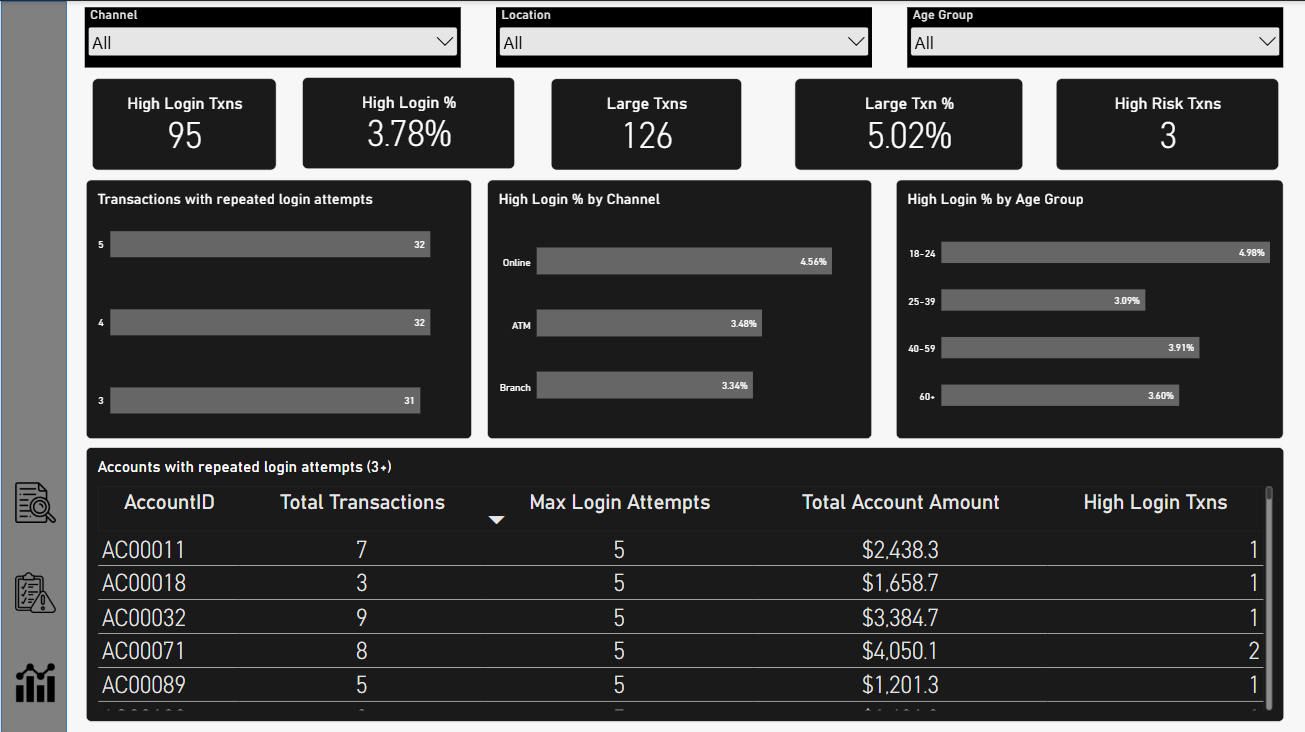

What the dashboard file says about the page in this screenshot:
{"tool":"powerbi","page":{"name":"Risk","canvas":[1920,1080],"ordinal":1},"visuals":[{"type":"shape","title":"Page Selector","box":[0,0,96.7,1080.6],"z":0},{"type":"slicer","fields":{"Values":["Dim_Channel.Channel"]},"box":[123.7,9.2,554,88.6],"z":0,"group":"g1"},{"type":"cardVisual","fields":{"Data":["Measure.High Login Txns"]},"box":[134.1,114.1,271.9,136],"z":0,"group":"g3"},{"type":"image","box":[5.5,841.1,90,60],"z":0,"group":"g2"},{"type":"group","id":"g1","title":"Slicers","box":[123.7,9.2,1765.3,88.6],"z":1000},{"type":"slicer","fields":{"Values":["Dim_Location.Location"]},"box":[729.4,9.2,554,88.6],"z":1000,"group":"g1"},{"type":"cardVisual","fields":{"Data":["Measure.High Login %"]},"box":[444.1,111.4,313.5,136],"z":1000,"group":"g3"},{"type":"image","box":[5.5,973.6,90,60],"z":1000,"group":"g2"},{"type":"slicer","fields":{"Values":["Transactions.Age Group"]},"box":[1335,9.2,554,88.6],"z":2000,"group":"g1"},{"type":"cardVisual","fields":{"Data":["Measure.Large Txns"]},"box":[809.3,113.9,281.4,136],"z":2000,"group":"g3"},{"type":"image","box":[5.5,708.6,90,60],"z":2000,"group":"g2"},{"type":"group","id":"g2","title":"Navigation Buttons","box":[5.5,708.6,90,325],"z":2000},{"type":"cardVisual","fields":{"Data":["Measure.Large Txn %"]},"box":[1167.5,113.9,336.1,136],"z":3000,"group":"g3"},{"type":"barChart","title":"Transactions with repeated login attempts","fields":{"Category":["Transactions.LoginAttempts"],"Y":["Measure.Total Transactions"]},"box":[124.6,262.5,568.4,381.4],"z":3000},{"type":"cardVisual","fields":{"Data":["Measure.High Risk Txns"]},"box":[1554,112.5,328.6,136],"z":4000,"group":"g3"},{"type":"barChart","title":"High Login % by Channel","fields":{"Category":["Dim_Channel.Channel"],"Y":["Measure.High Login %"]},"box":[715.7,262.5,566.5,381.4],"z":4000},{"type":"barChart","title":"High Login % by Age Group","fields":{"Category":["Transactions.Age Group"],"Y":["Measure.High Login %"]},"box":[1318,262.5,570.3,381.4],"z":5000},{"type":"tableEx","title":"Accounts with repeated login attempts (3+)","fields":{"Values":["Transactions.AccountID","Measure.Total Transactions","Measure.Max Login Attempts","Measure.Total Amount","Measure.High Login Txns"]},"box":[124.6,657.1,1763.7,404.1],"z":6000},{"type":"group","id":"g3","title":"KPI Cards","box":[134.1,111.4,1748.4,138.6],"z":7000}]}

Visuals, with their boxes on the page's 1920x1080 design canvas (x1, y1, x2, y2). These are canvas units, not pixel positions in the 1305x732 screenshot, which may show the page scaled, cropped or inside an application window:
"Page Selector" shape: pyautogui.locateOnScreen(0, 0, 97, 1081)
slicer - Dim_Channel.Channel: pyautogui.locateOnScreen(124, 9, 678, 98)
cardVisual - Measure.High Login Txns: pyautogui.locateOnScreen(134, 114, 406, 250)
image: pyautogui.locateOnScreen(6, 841, 96, 901)
"Slicers" group: pyautogui.locateOnScreen(124, 9, 1889, 98)
slicer - Dim_Location.Location: pyautogui.locateOnScreen(729, 9, 1283, 98)
cardVisual - Measure.High Login %: pyautogui.locateOnScreen(444, 111, 758, 247)
image: pyautogui.locateOnScreen(6, 974, 96, 1034)
slicer - Transactions.Age Group: pyautogui.locateOnScreen(1335, 9, 1889, 98)
cardVisual - Measure.Large Txns: pyautogui.locateOnScreen(809, 114, 1091, 250)
image: pyautogui.locateOnScreen(6, 709, 96, 769)
"Navigation Buttons" group: pyautogui.locateOnScreen(6, 709, 96, 1034)
cardVisual - Measure.Large Txn %: pyautogui.locateOnScreen(1168, 114, 1504, 250)
"Transactions with repeated login attempts" barChart: pyautogui.locateOnScreen(125, 262, 693, 644)
cardVisual - Measure.High Risk Txns: pyautogui.locateOnScreen(1554, 112, 1883, 248)
"High Login % by Channel" barChart: pyautogui.locateOnScreen(716, 262, 1282, 644)
"High Login % by Age Group" barChart: pyautogui.locateOnScreen(1318, 262, 1888, 644)
"Accounts with repeated login attempts (3+)" tableEx: pyautogui.locateOnScreen(125, 657, 1888, 1061)
"KPI Cards" group: pyautogui.locateOnScreen(134, 111, 1882, 250)
